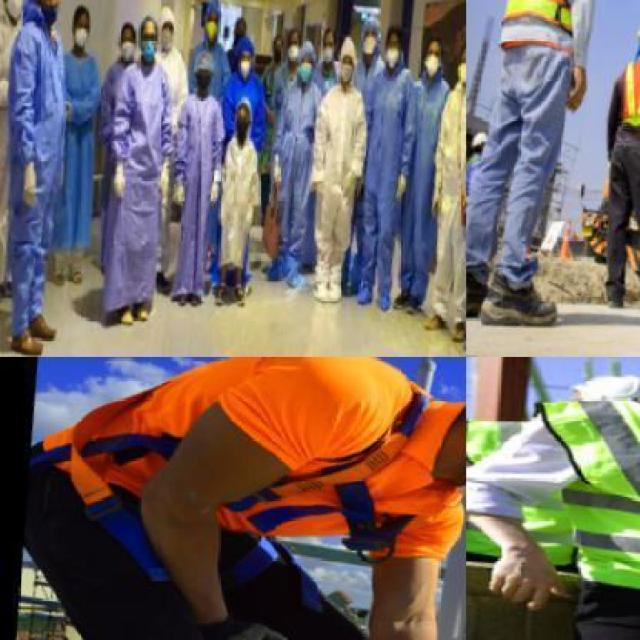Vest: (89, 357, 462, 572), (500, 371, 638, 637), (0, 24, 92, 313), (80, 68, 185, 308), (332, 68, 423, 297), (376, 78, 456, 304), (286, 85, 374, 289), (150, 94, 232, 294), (34, 49, 112, 256), (403, 81, 465, 334), (249, 80, 328, 269), (75, 62, 128, 258), (0, 19, 34, 268), (203, 140, 265, 263), (488, 0, 604, 48), (443, 105, 465, 349), (143, 51, 191, 138), (602, 49, 638, 148), (214, 83, 268, 142), (466, 150, 482, 216)
